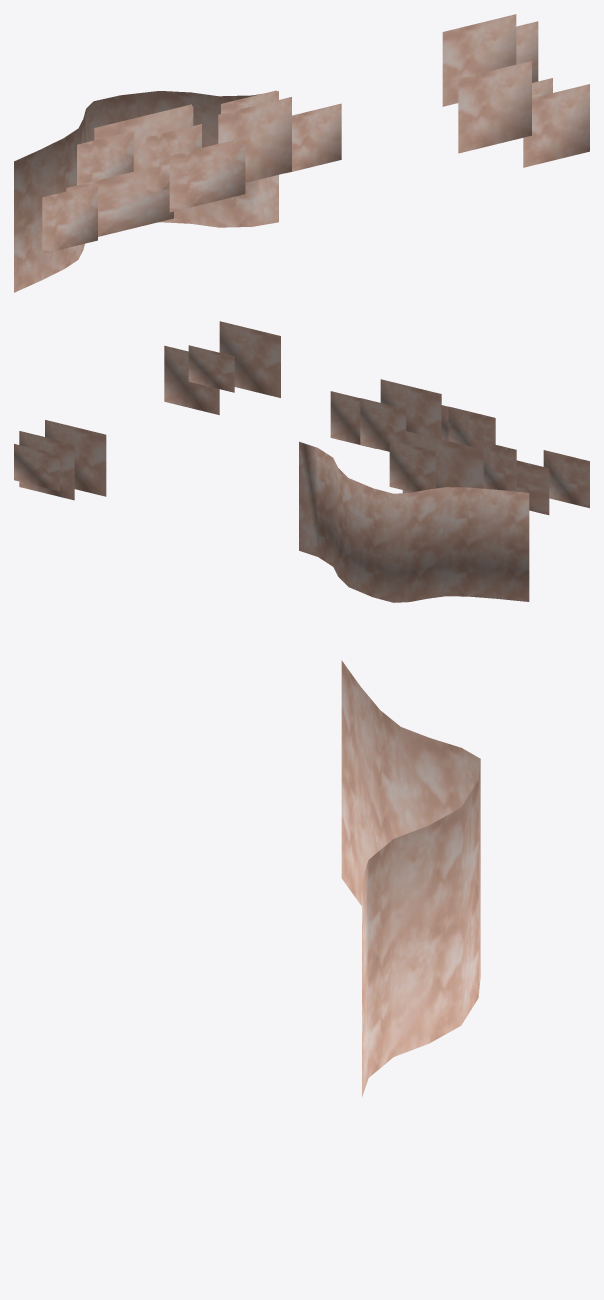
The model's file is stg210_MotCloud_10.obj.
The picture shows the model from 3 angles, top to bottom: view 1: azimuth 30°, elevation 25°; view 2: azimuth 150°, elevation 25°; view 3: azimuth 270°, elevation 25°; orthographic projection. The views are drawn at different scales.
Visible parts, largest first — view 1: polygon16, polygon11, polygon0, polygon2, polygon13, polygon12, polygon9, polygon8, polygon6, polygon3, polygon5, polygon1 (+2 smaller); view 2: polygon16, polygon11, polygon5, polygon13, polygon2, polygon12, polygon7, polygon8, polygon4, polygon10, polygon15, polygon14 (+4 smaller); view 3: polygon16.
Part boxes in pixels (left/top/right/bottom): polygon16: left=14, top=91, right=278, bottom=292; polygon11: left=458, top=61, right=531, bottom=153; polygon0: left=169, top=137, right=245, bottom=212; polygon2: left=218, top=97, right=291, bottom=182; polygon13: left=442, top=14, right=516, bottom=106; polygon12: left=523, top=84, right=589, bottom=167; polygon9: left=66, top=168, right=173, bottom=236; polygon8: left=42, top=184, right=97, bottom=253; polygon6: left=286, top=103, right=341, bottom=173; polygon3: left=77, top=131, right=133, bottom=185; polygon5: left=94, top=104, right=191, bottom=171; polygon1: left=146, top=124, right=201, bottom=193; polygon16: left=299, top=441, right=529, bottom=602; polygon11: left=219, top=321, right=280, bottom=397; polygon5: left=402, top=430, right=483, bottom=493; polygon13: left=45, top=420, right=106, bottom=496; polygon2: left=380, top=379, right=441, bottom=439; polygon12: left=164, top=345, right=219, bottom=414; polygon7: left=389, top=440, right=435, bottom=492; polygon8: left=543, top=450, right=589, bottom=508; polygon4: left=360, top=398, right=406, bottom=451; polygon10: left=188, top=345, right=234, bottom=392; polygon15: left=19, top=431, right=74, bottom=500; polygon14: left=14, top=444, right=59, bottom=491; polygon16: left=341, top=660, right=480, bottom=1096.
Bounding box in the file's own units: 4180 × 1186 × 1476.
Materials: 2 (2 with a texture image).
